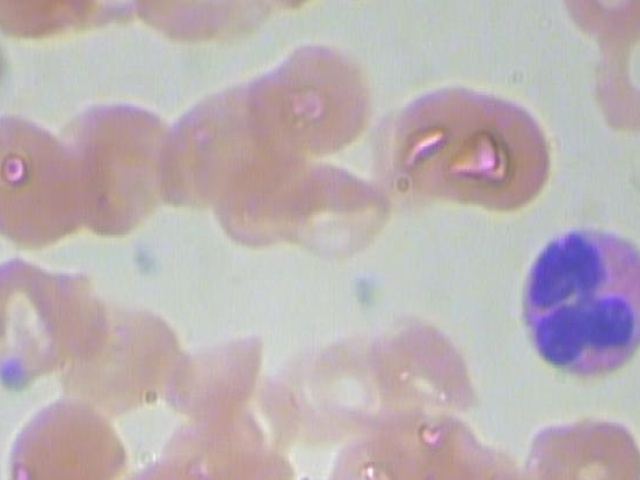Platelets: (0, 357, 28, 395)
RBC: (56, 99, 183, 244), (259, 30, 380, 159), (436, 93, 557, 214), (150, 323, 271, 429), (360, 311, 481, 417), (0, 247, 83, 401), (269, 154, 389, 260), (0, 97, 81, 251), (7, 389, 127, 480), (519, 391, 640, 480), (293, 334, 382, 433), (131, 0, 251, 60), (309, 430, 431, 480), (88, 447, 227, 480), (554, 0, 640, 44)
WBC: (503, 223, 640, 383)
